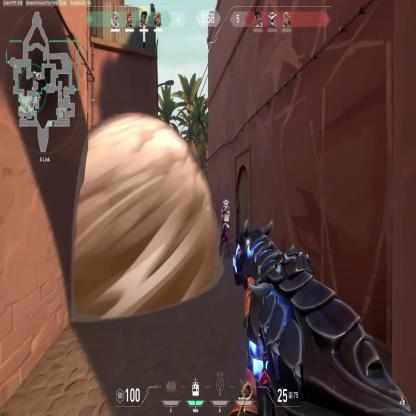enemy: (217, 196, 231, 259)
enemy_head: (223, 200, 229, 211)
